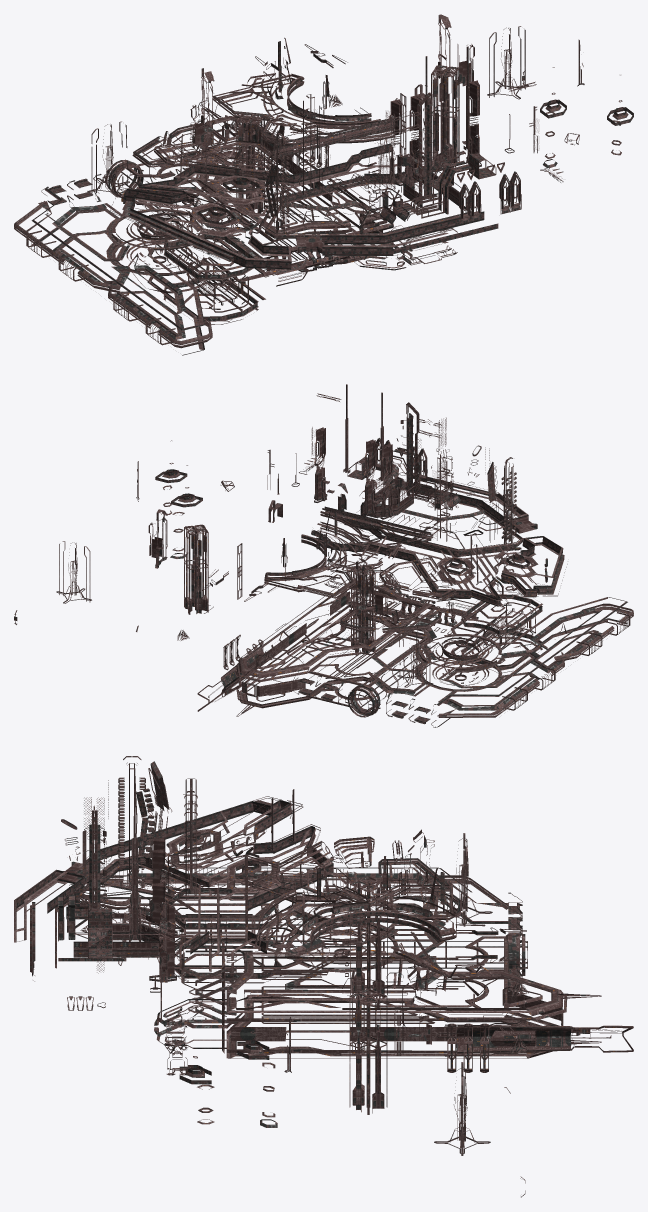
3 renders of one model, top to bottom at view 1: azimuth 30°, elevation 25°; view 2: azimuth 150°, elevation 25°; view 3: azimuth 270°, elevation 25°, orthographic. The views are drawn at different scales.
Parts seen in each view (by area): view 1: _gltfNode_3.001; view 2: _gltfNode_3.001; view 3: _gltfNode_3.001.
Boxes of the visible parts, x1=… form: _gltfNode_3.001: x1=14, y1=14, x2=633, y2=355; _gltfNode_3.001: x1=14, y1=384, x2=633, y2=727; _gltfNode_3.001: x1=14, y1=756, x2=633, y2=1197.
Bounding box in the file's own units: 8.35 × 3.5 × 7.
Materials: 1 (1 with a texture image).
